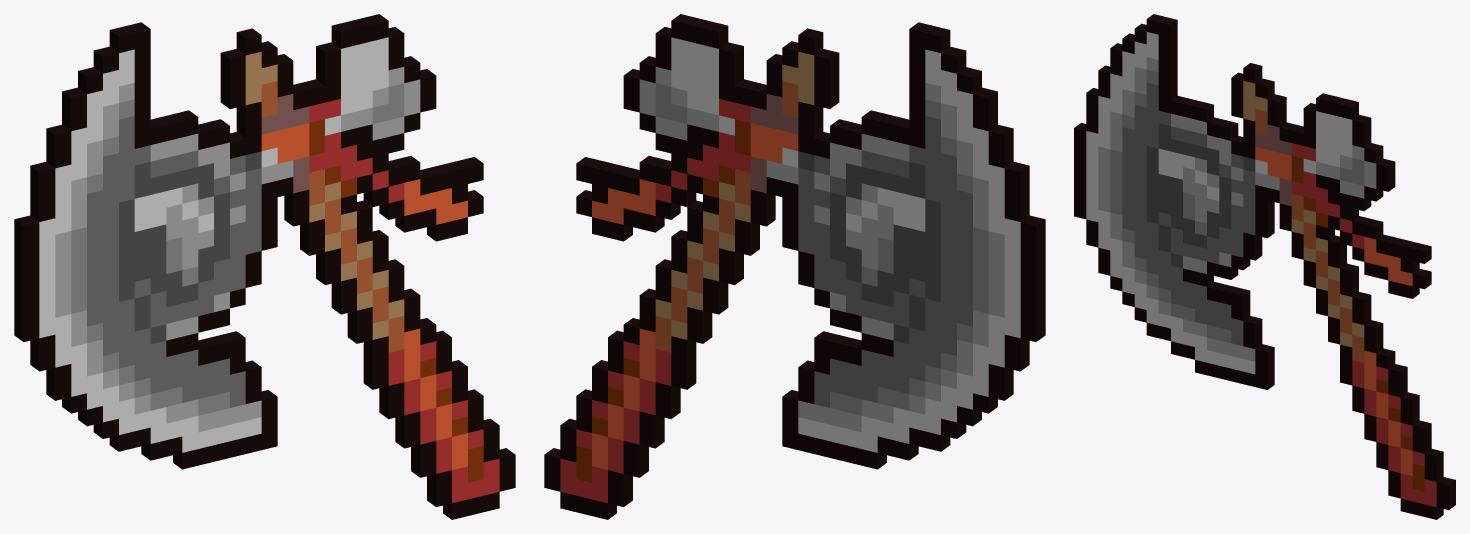
File: W_Axe008.fbx
3 renders of one model, left to right at view 1: azimuth 30°, elevation 25°; view 2: azimuth 150°, elevation 25°; view 3: azimuth 330°, elevation 25°, orthographic. The views are drawn at different scales.
Parts seen in each view (by area): view 1: Default; view 2: Default; view 3: Default.
Part boxes in pixels (x1,y1,x2,y2): Default: [14, 14, 515, 519]; Default: [544, 14, 1045, 519]; Default: [1074, 14, 1455, 519].
Size of the model in its own units: 31 by 34 by 1.
1 material, 1 textured.
